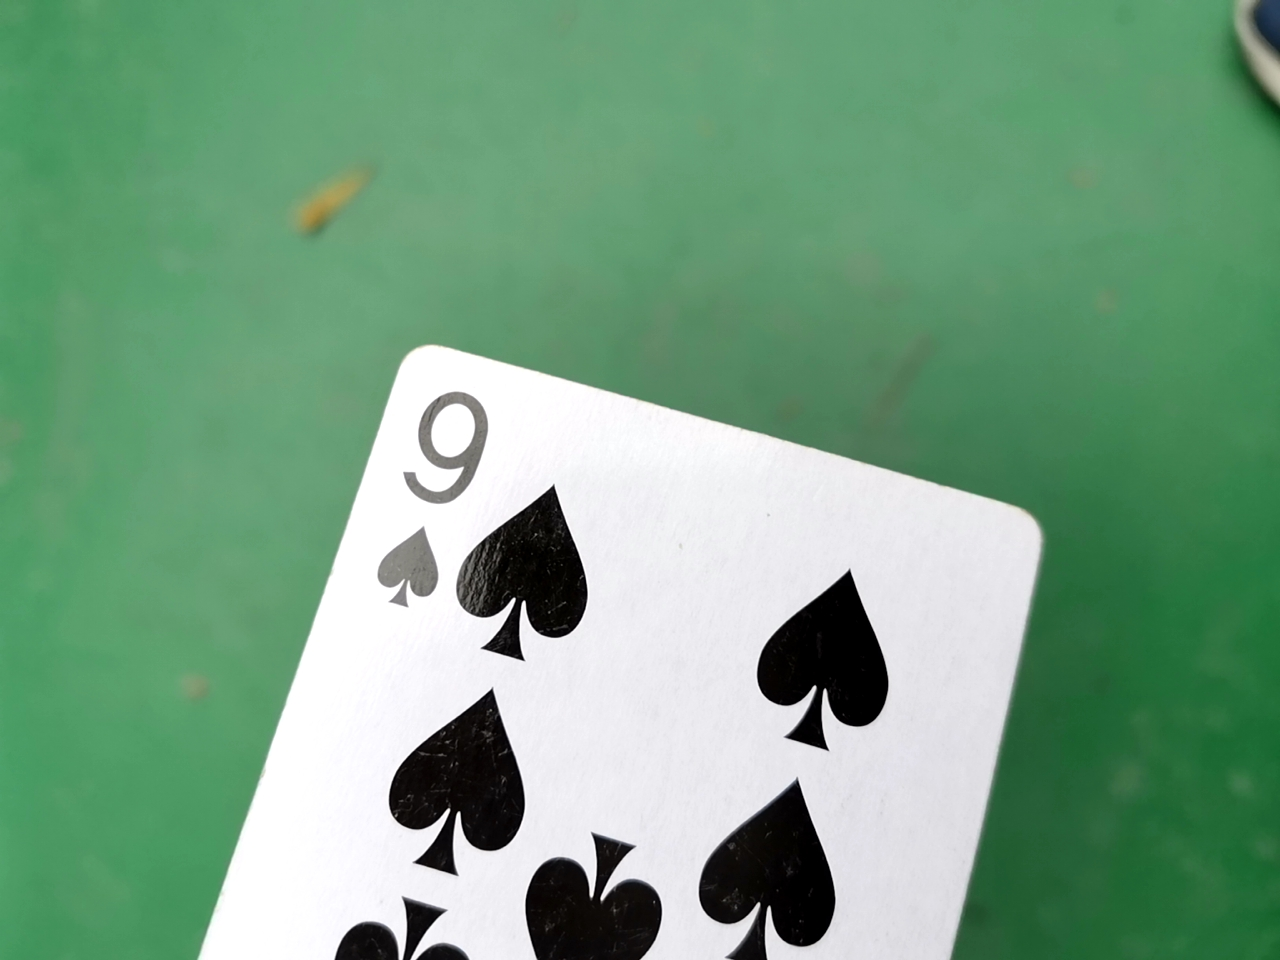ht 9: (85, 324, 1052, 960)
